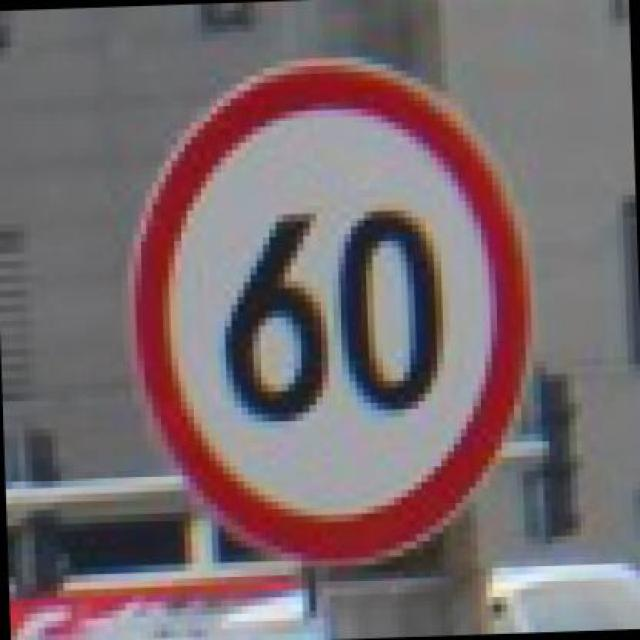Limite-60: (124, 51, 542, 568)
